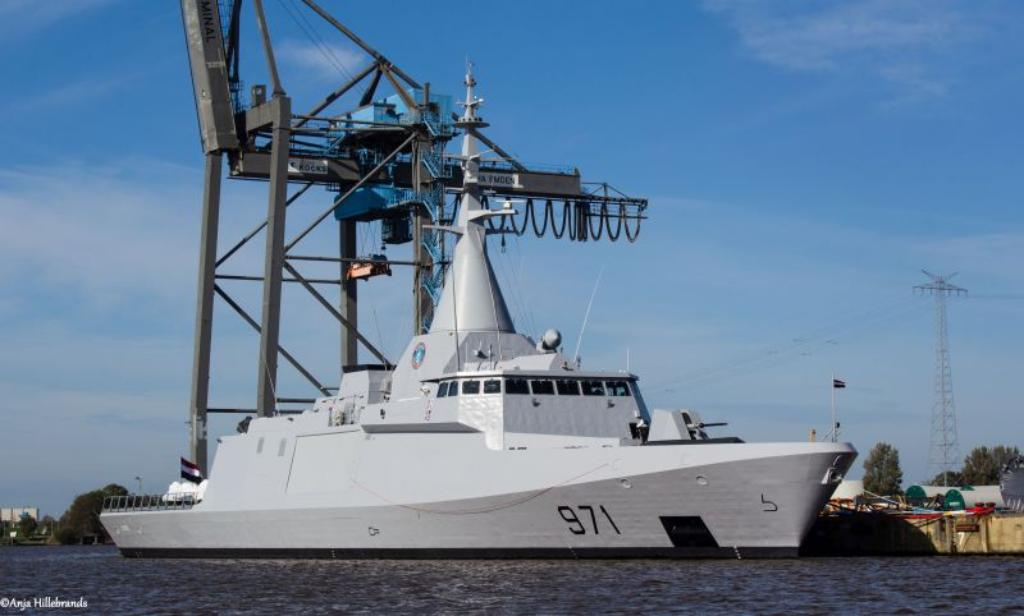Warship: (91, 57, 859, 562)
